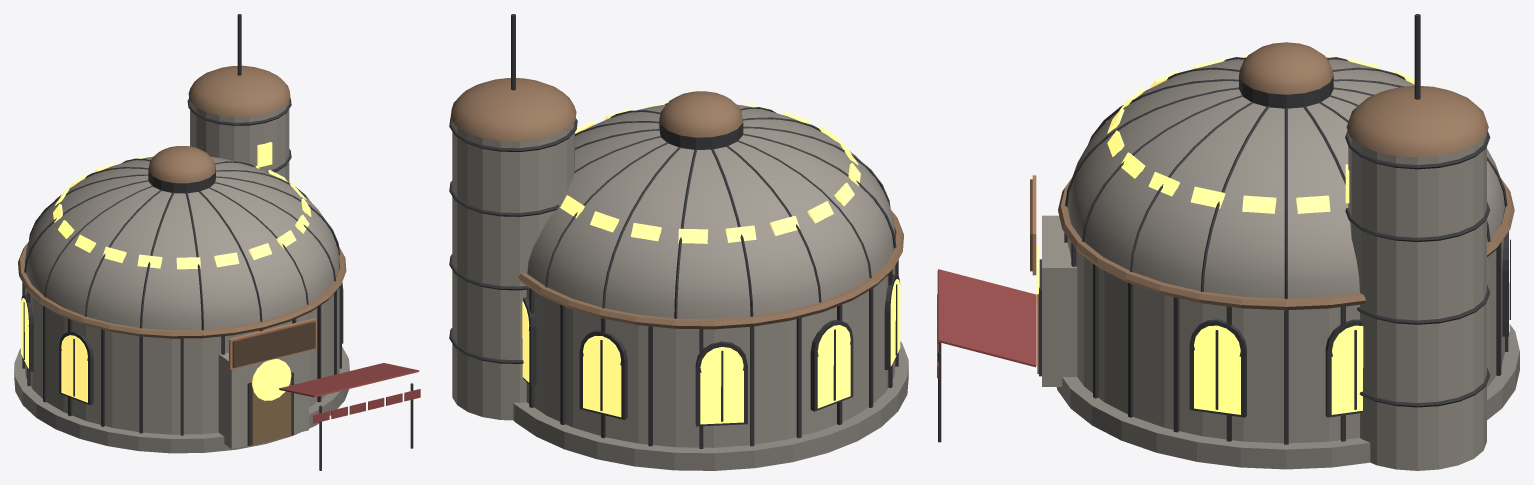
Rendered from tavern_v2.glb.
3 views of the same model, side by side, from view 1: azimuth 30°, elevation 25°; view 2: azimuth 150°, elevation 25°; view 3: azimuth 270°, elevation 25° (orthographic). The views are drawn at different scales.
Parts seen in each view (by area): view 1: tavern_v2; view 2: tavern_v2; view 3: tavern_v2.
Part boxes in pixels (box(x1,y1,x2,y2)): tavern_v2: box(14, 14, 420, 470); tavern_v2: box(449, 14, 908, 470); tavern_v2: box(937, 14, 1519, 470).
Size of the model in its own units: 12.99 by 12.9 by 15.97.
